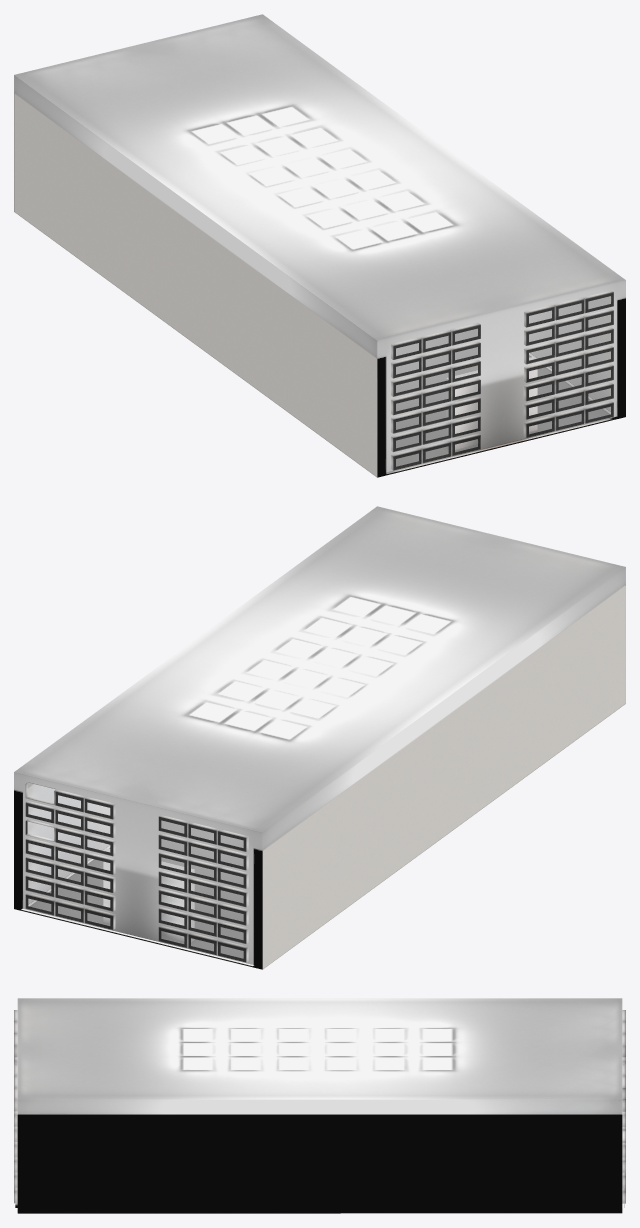
Rendered from modelbackup.glb.
The picture shows the model from 3 angles, top to bottom: view 1: azimuth 30°, elevation 25°; view 2: azimuth 150°, elevation 25°; view 3: azimuth 270°, elevation 25°; orthographic projection. The views are drawn at different scales.
Parts seen in each view (by area): view 1: Raum_primitive0, Raum_primitive1, Raum_primitive2, Floor; view 2: Raum_primitive0, Raum_primitive1, Raum_primitive2, Floor; view 3: Raum_primitive0.
Part boxes in pixels (bbox=[...]): Raum_primitive0: bbox=[14, 14, 625, 477]; Raum_primitive1: bbox=[393, 292, 613, 470]; Raum_primitive2: bbox=[396, 328, 609, 466]; Floor: bbox=[396, 329, 609, 466]; Raum_primitive0: bbox=[14, 506, 625, 969]; Raum_primitive1: bbox=[25, 791, 246, 962]; Raum_primitive2: bbox=[30, 820, 243, 958]; Floor: bbox=[22, 821, 249, 966]; Raum_primitive0: bbox=[14, 998, 625, 1213].
Size of the model in its own units: 7.66 by 4.03 by 19.61.
Materials: 4 (2 with a texture image).
